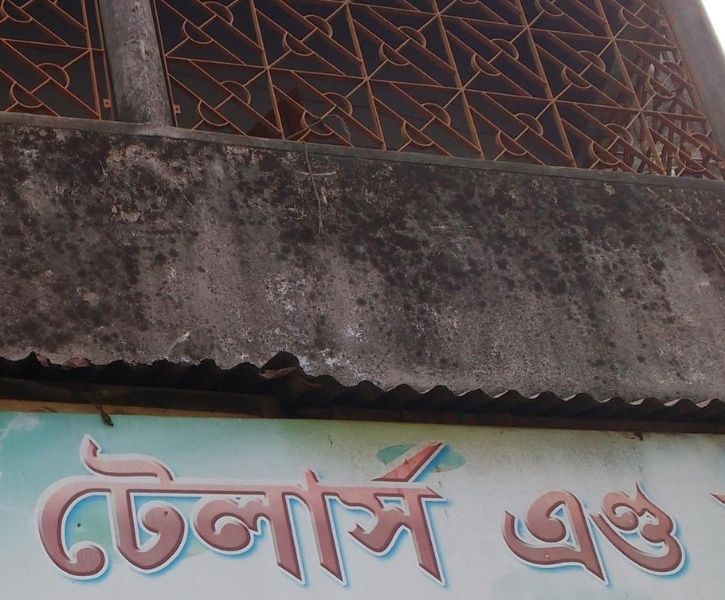text: (33, 431, 48, 592), (49, 431, 64, 592), (65, 431, 80, 592), (81, 431, 96, 592), (97, 431, 112, 592), (113, 431, 128, 592), (129, 431, 144, 592), (145, 431, 160, 592), (161, 431, 176, 592), (177, 431, 192, 592), (193, 431, 208, 592), (209, 431, 224, 592), (225, 431, 240, 592), (241, 431, 256, 592), (257, 431, 272, 592), (273, 431, 288, 592), (289, 431, 304, 592), (305, 431, 320, 592), (321, 431, 336, 592), (337, 431, 352, 592), (353, 431, 368, 592), (369, 431, 384, 592), (385, 431, 400, 592), (401, 431, 416, 592), (417, 431, 432, 592), (433, 431, 448, 592), (449, 431, 464, 592), (465, 431, 477, 592), (513, 479, 528, 596), (529, 479, 544, 596), (545, 479, 560, 596), (561, 479, 576, 596), (577, 479, 592, 596), (593, 479, 608, 596), (609, 479, 624, 596), (625, 479, 640, 596), (641, 479, 656, 596), (657, 479, 672, 596), (673, 479, 688, 596), (499, 479, 512, 596), (689, 479, 701, 596), (29, 431, 32, 592)
